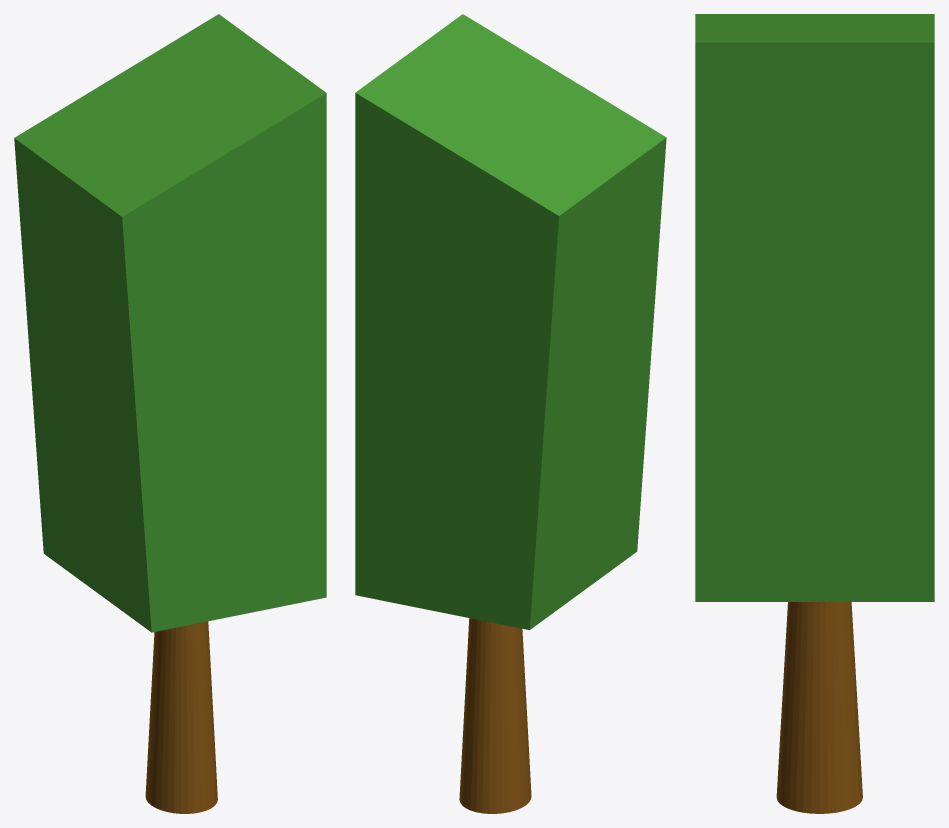
File: tree.glb
3 renders of one model, left to right at view 1: azimuth 30°, elevation 25°; view 2: azimuth 150°, elevation 25°; view 3: azimuth 270°, elevation 25°, orthographic. The views are drawn at different scales.
Visible parts, largest first — view 1: Cube, Cone; view 2: Cube, Cone; view 3: Cube, Cone.
Part boxes in pixels (x1,y1,x2,y2): Cube: (14, 14, 326, 632); Cone: (145, 621, 217, 813); Cube: (355, 14, 666, 630); Cone: (459, 618, 531, 813); Cube: (695, 14, 934, 601); Cone: (776, 602, 862, 813).
Size of the model in its own units: 6.59 by 22.29 by 6.02.
